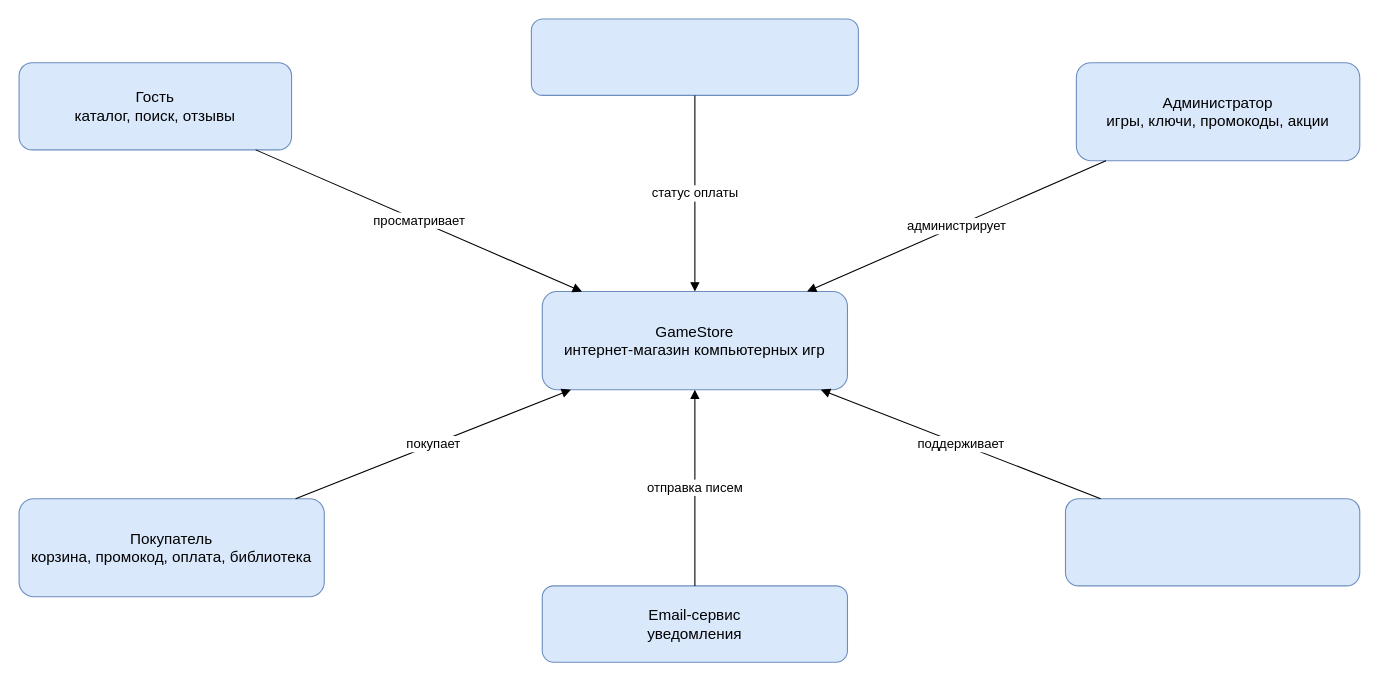
Image size: 1379x681. Some labels were removed from this diagram. The shapes that lost their labels are listed below. From the top down, each one's centre as x and y in pixels, then its label:
At point 694,56: "ЮKassa подтверждение платежа".
At point 1212,542: "Менеджер поддержки обращения и возвраты".
